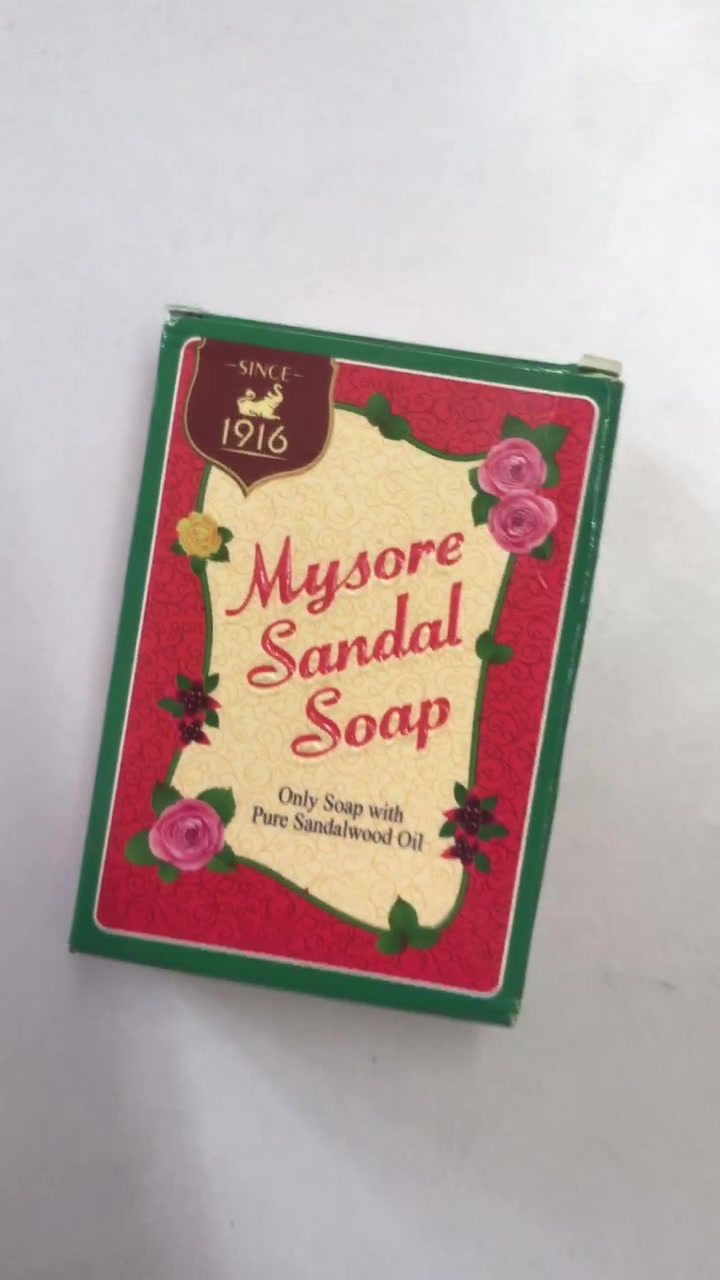mysore sandal soap: (66, 307, 620, 1030)
